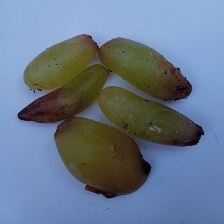grapes: (16, 35, 170, 189)
